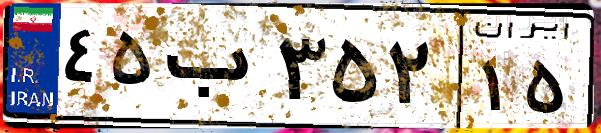1: (475, 38, 525, 113)
2: (385, 28, 445, 110)
3: (270, 28, 330, 110)
4: (57, 26, 110, 100)
5: (330, 28, 385, 110), (525, 38, 570, 115), (110, 28, 158, 98)
ب: (158, 20, 270, 120)
